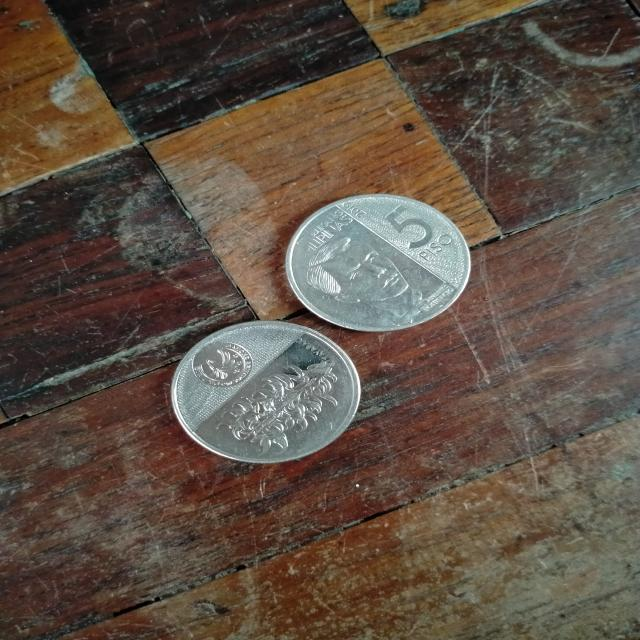5_New_Back: (214, 349, 352, 453)
5_New_Front: (380, 201, 460, 264)
